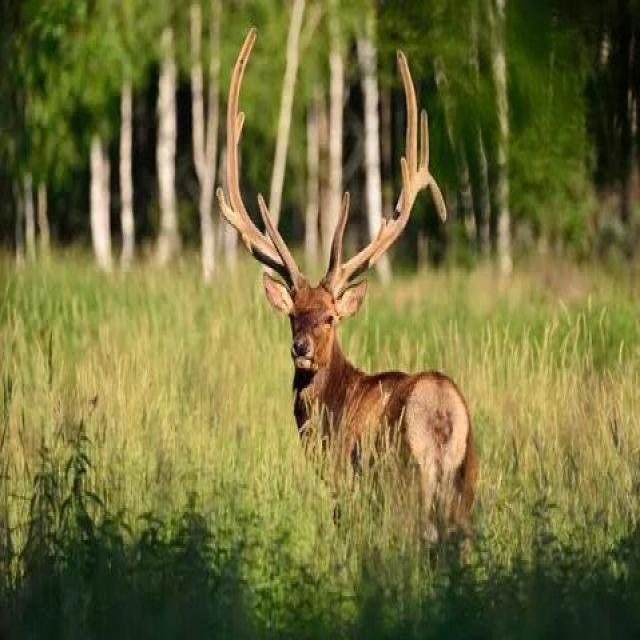deer: (210, 59, 530, 529)
